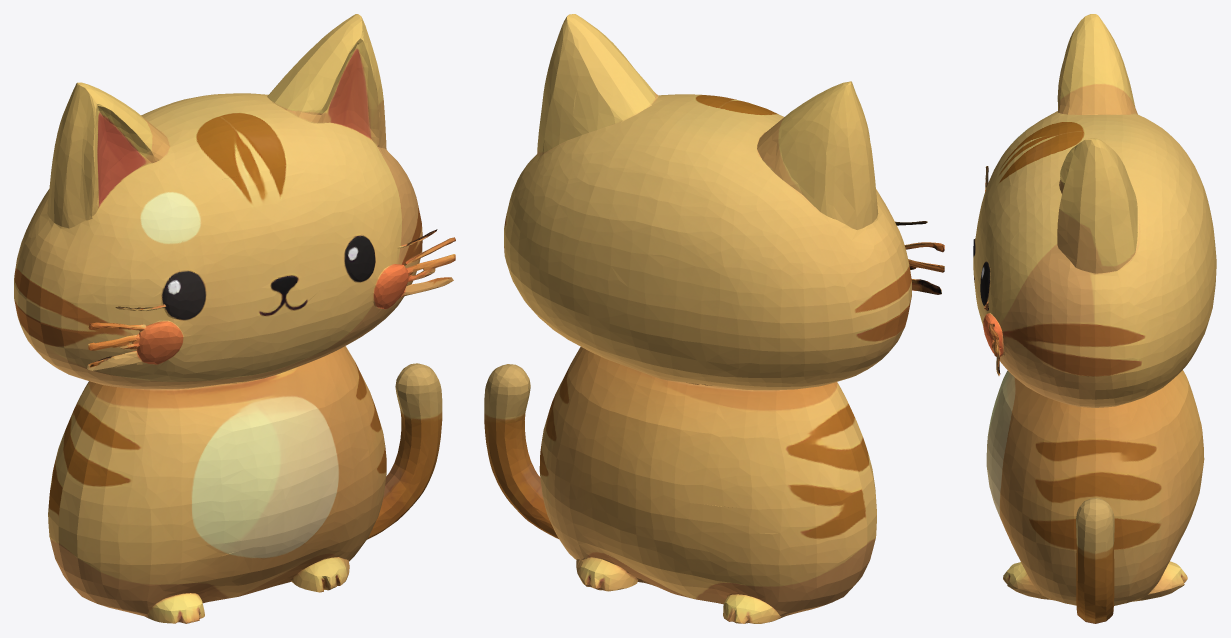
Rendered from cat_01.glb.
3 renders of one model, left to right at view 1: azimuth 30°, elevation 25°; view 2: azimuth 150°, elevation 25°; view 3: azimuth 270°, elevation 25°, orthographic. The views are drawn at different scales.
Visible parts, largest first — view 1: world; view 2: world; view 3: world.
Part boxes in pixels (left/top/right/bottom): world: left=14, top=14, right=455, bottom=623; world: left=484, top=14, right=944, bottom=623; world: left=973, top=14, right=1216, bottom=623.
Size of the model in its own units: 0.8236 by 0.9978 by 0.4574.
1 material, 1 textured.
